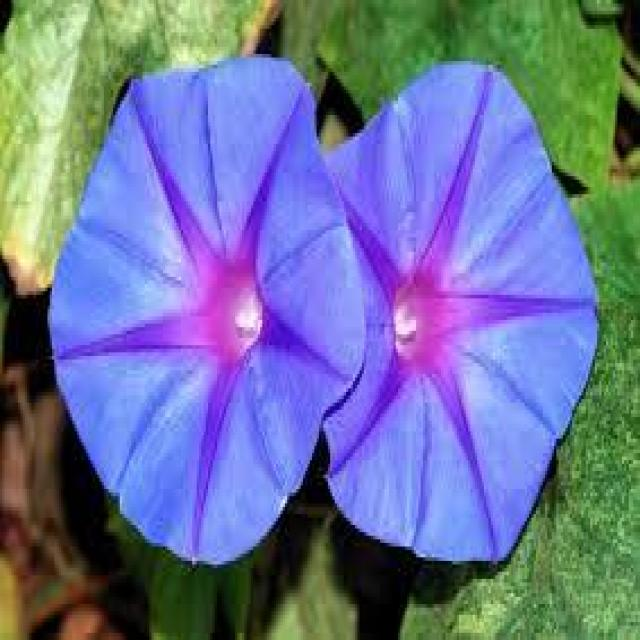organic waste: (267, 79, 610, 572), (56, 61, 360, 554)
